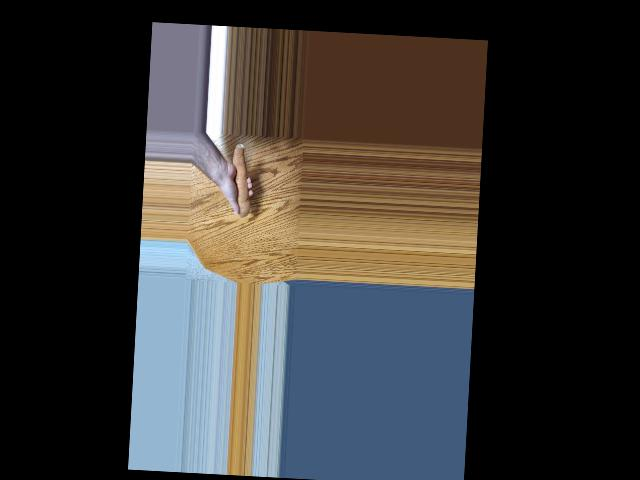sweet_potato: (228, 143, 256, 216)
